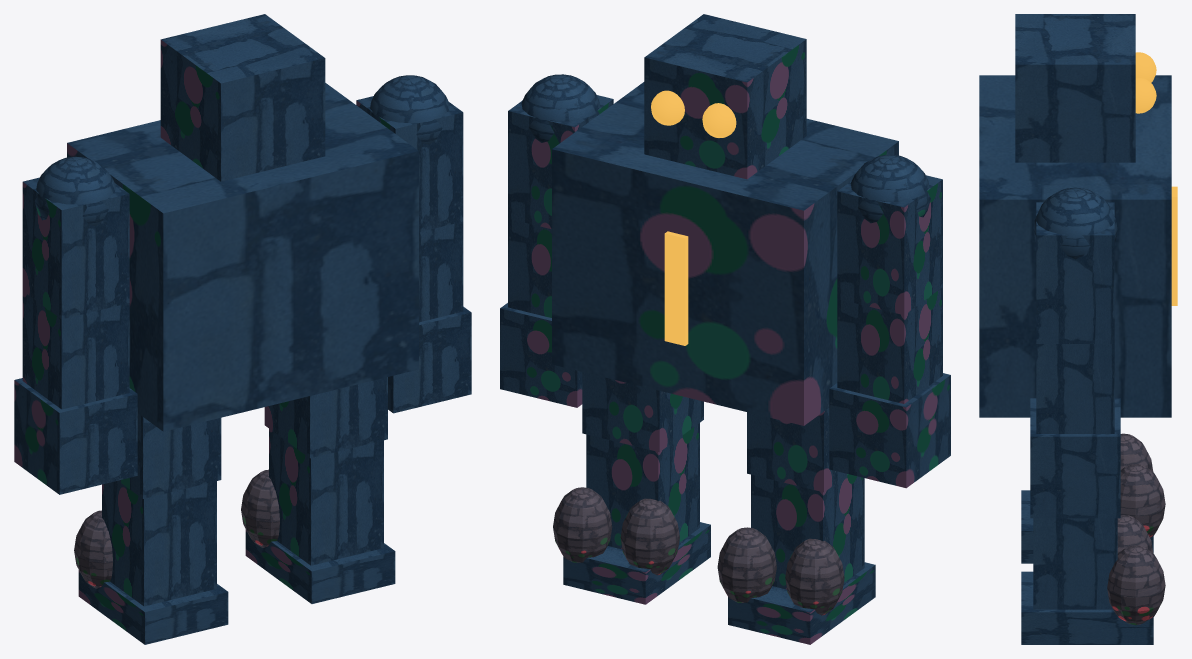
Rendered from golem-water.glb.
3 renders of one model, left to right at view 1: azimuth 30°, elevation 25°; view 2: azimuth 150°, elevation 25°; view 3: azimuth 270°, elevation 25°, orthographic.
Visible parts, largest first — view 1: Torso, Head, Shin.001, Shin, UpperArm, Fist, Forearm, Thigh.001, Thigh, Fist.001, UpperArm.001, Foot.001 (+6 smaller); view 2: Torso, Head, UpperArm, Fist, Forearm, Shin.001, Shin, Thigh.001, Thigh, Fist.001, UpperArm.001, Foot (+11 smaller); view 3: Torso, Head, UpperArm.001, Fist.001, Shin.001, Forearm.001, Foot.001, Coral.1.1, JointShoulder.001, Coral.0.1, Coral.1.0, Foot (+4 smaller).
Part boxes in pixels (x1,y1,x2,y2): Torso: [67, 83, 418, 431]; Head: [160, 14, 325, 181]; Shin.001: [269, 428, 383, 565]; Shin: [102, 480, 216, 606]; UpperArm: [22, 177, 129, 319]; Fist: [14, 378, 137, 494]; Forearm: [22, 291, 129, 409]; Thigh.001: [264, 377, 387, 458]; Thigh: [118, 413, 221, 498]; Fist.001: [388, 306, 471, 413]; UpperArm.001: [356, 96, 463, 232]; Foot.001: [245, 529, 395, 603]; Torso: [552, 82, 898, 425]; Head: [644, 14, 806, 179]; UpperArm: [837, 175, 942, 314]; Fist: [829, 373, 950, 488]; Forearm: [837, 287, 942, 403]; Shin.001: [586, 423, 699, 549]; Shin: [751, 474, 864, 589]; Thigh.001: [582, 372, 703, 452]; Thigh: [747, 408, 848, 492]; Fist.001: [500, 303, 582, 407]; UpperArm.001: [508, 95, 613, 229]; Foot: [728, 562, 875, 644]; Torso: [979, 75, 1171, 417]; Head: [1015, 14, 1135, 162]; UpperArm.001: [1036, 202, 1114, 343]; Fist.001: [1030, 398, 1120, 518]; Shin.001: [1033, 518, 1117, 609]; Forearm.001: [1036, 344, 1114, 433]; Foot.001: [1021, 571, 1153, 644]; Coral.1.1: [1107, 545, 1165, 625]; JointShoulder.001: [1033, 187, 1117, 259]; Coral.0.1: [1120, 464, 1165, 537]; Coral.1.0: [1117, 515, 1153, 553]; Foot: [1021, 490, 1153, 563].
Size of the model in its own units: 0.79 by 1 by 0.33.
Materials: 4 (3 with a texture image).
